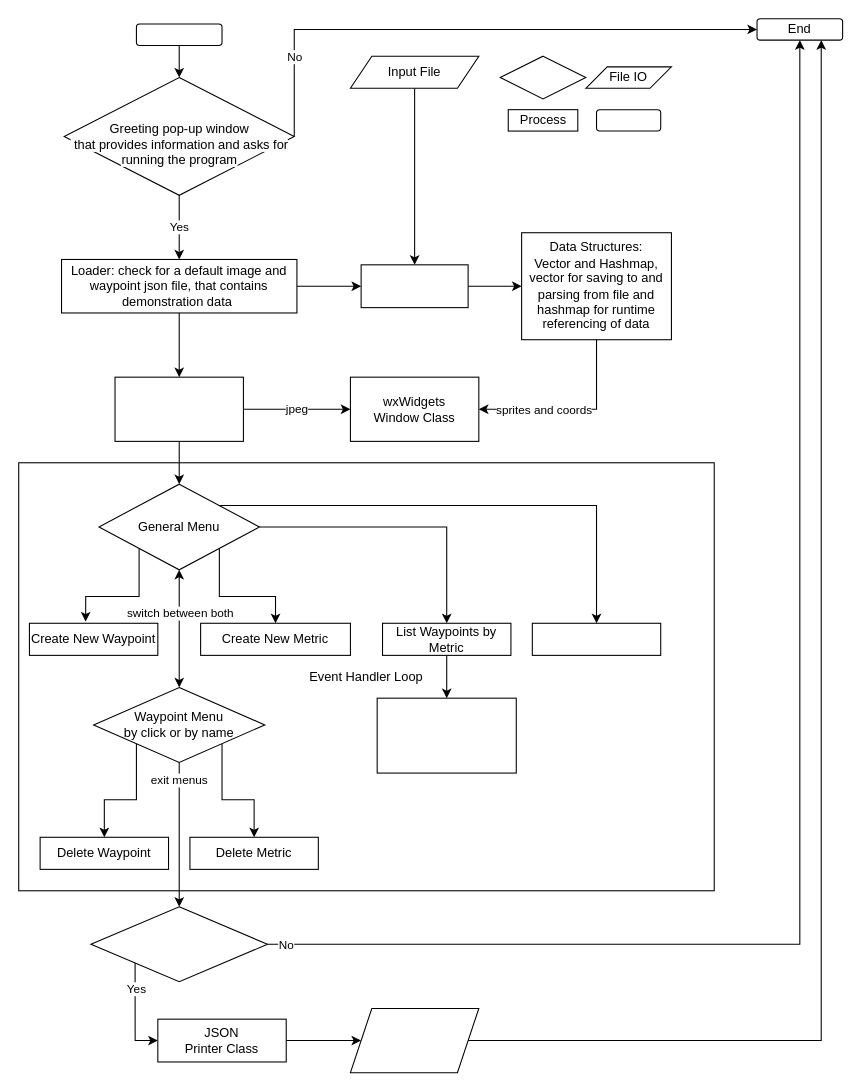
This 861x1091 diagram has some shape labels left out. The centre of each missing label's shape, as x and y in pixels:
"Decision" goes at pixel 542 77.
"JSON Parser Class" goes at pixel 414 286.
"Output File" goes at pixel 414 1040.
"Save updated file or ignore updates" goes at pixel 179 944.
"Specific operations such as distances, path traversal, etc." goes at pixel 446 735.
"Start" goes at pixel 178 34.
"Terminus" goes at pixel 628 120.
"Undo deletion" goes at pixel 596 638.
"Window: loads a jpg image to the window" goes at pixel 178 408.
